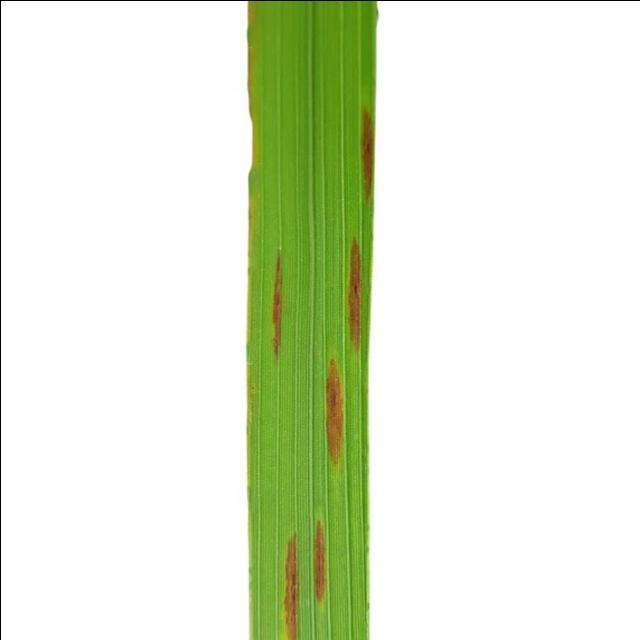Narrow brown: (226, 0, 388, 640)
